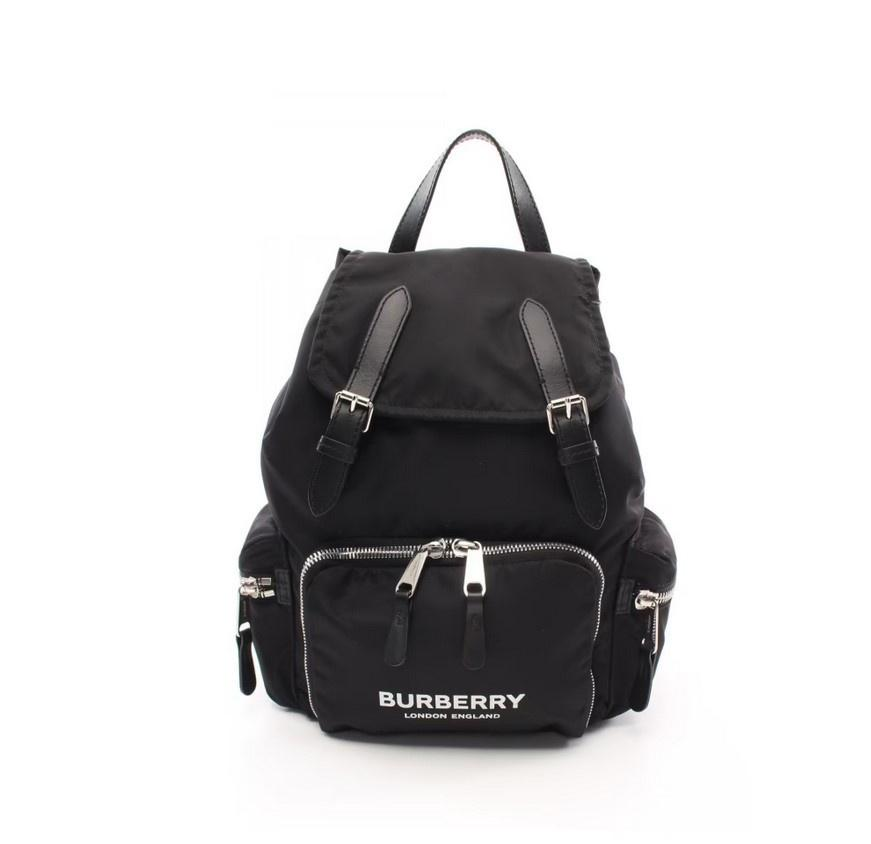BURBERRY: (379, 691, 526, 709)
